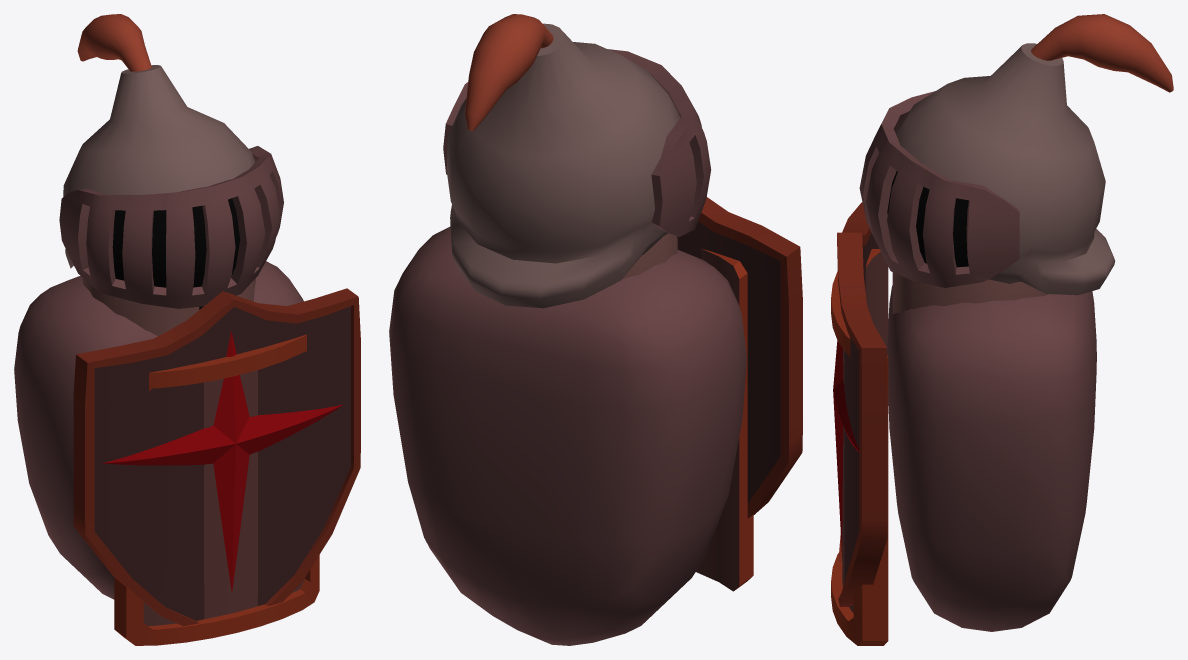
The model's file is monster_and_boss_2.fbx.
3 renders of one model, left to right at view 1: azimuth 30°, elevation 25°; view 2: azimuth 150°, elevation 25°; view 3: azimuth 270°, elevation 25°, orthographic. The views are drawn at different scales.
Visible parts, largest first — view 1: Boss, Monster; view 2: Boss, Monster; view 3: Boss, Monster.
Part boxes in pixels (x1,y1,x2,y2): Boss: [14, 14, 360, 626]; Monster: [82, 278, 319, 645]; Boss: [389, 14, 802, 645]; Monster: [622, 233, 753, 591]; Boss: [833, 14, 1173, 631]; Monster: [831, 249, 1048, 645].
Size of the model in its own units: 0.8314 by 1.63 by 0.851.
